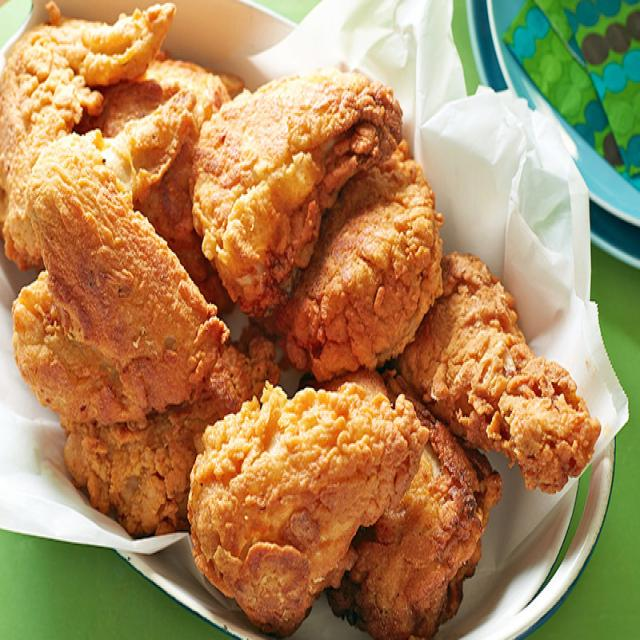Frango: (414, 222, 599, 520)
